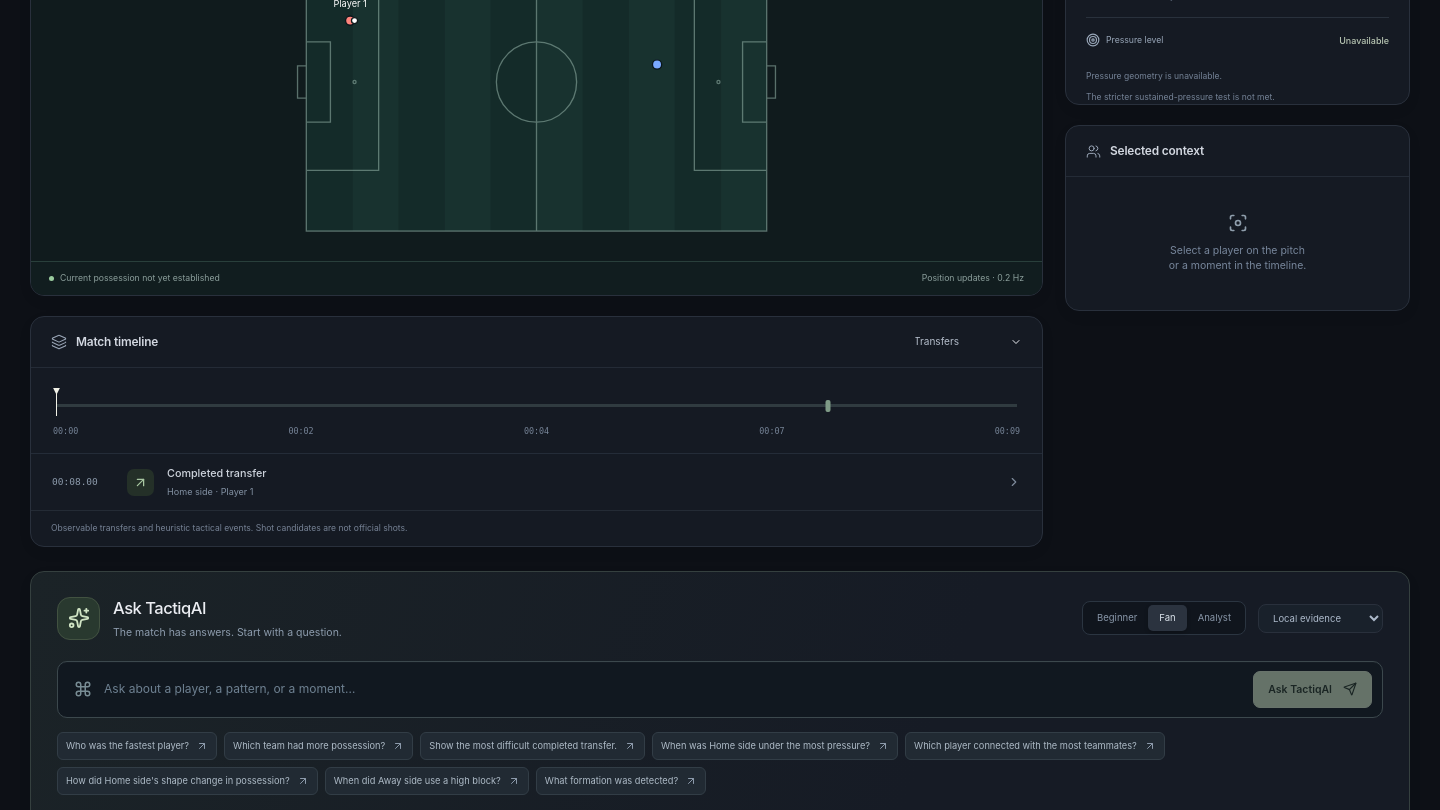
it: Match Intelligence › uses release pre-roll while retaining the canonical event marker and evidence time
This screenshot has width=1440, height=810.
(page scrolled)
Click the button named "Completed transfer at 00:08.00". click: (828, 406)
box: 825,400 -> 830,412
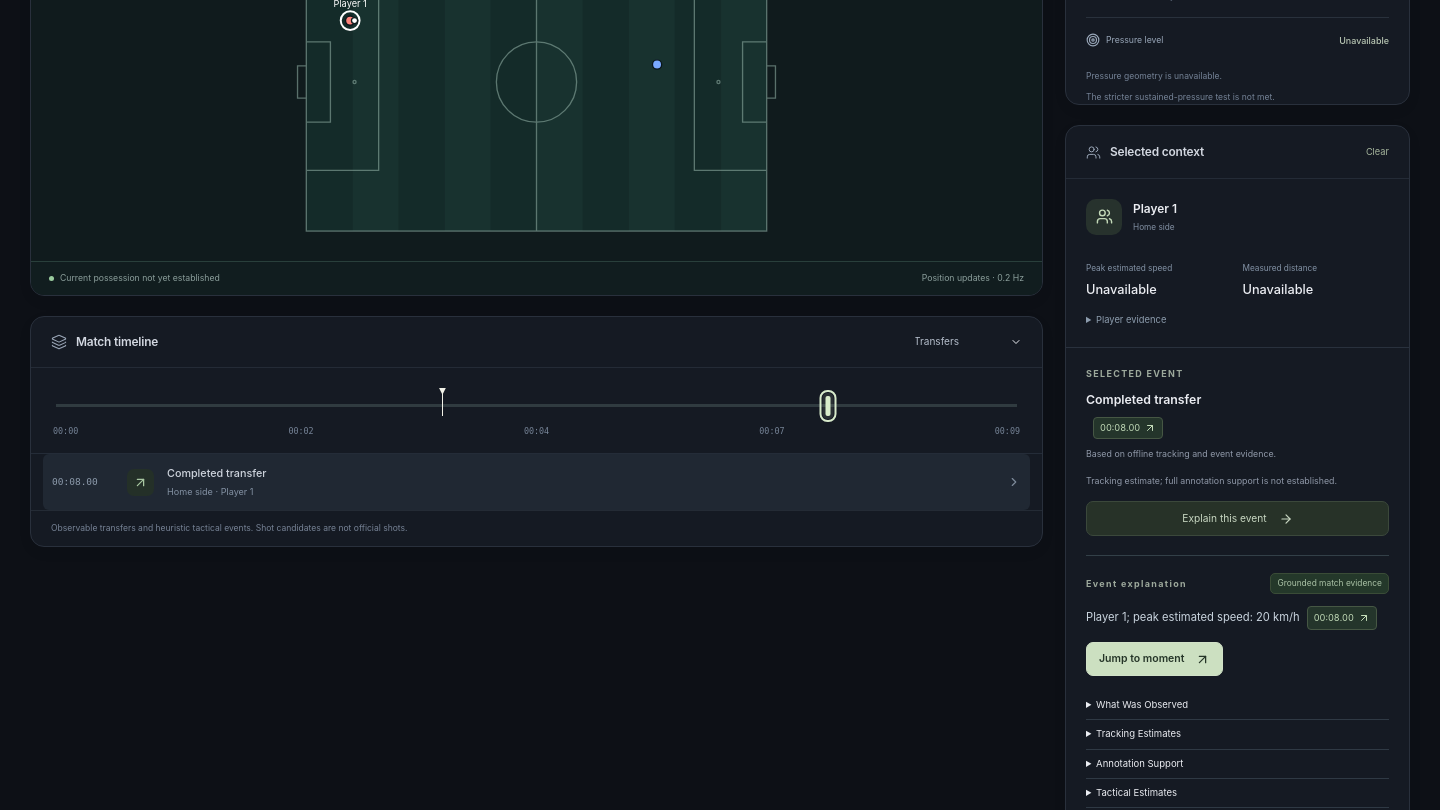
Now the 1st button "00:08.00" is shown, box 1093,417 -> 1163,439
